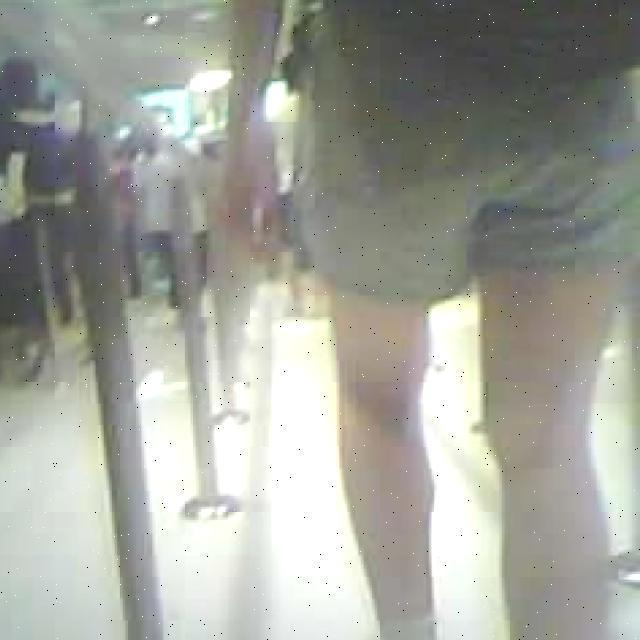person: (213, 0, 636, 640), (6, 58, 63, 324), (0, 88, 18, 372)
